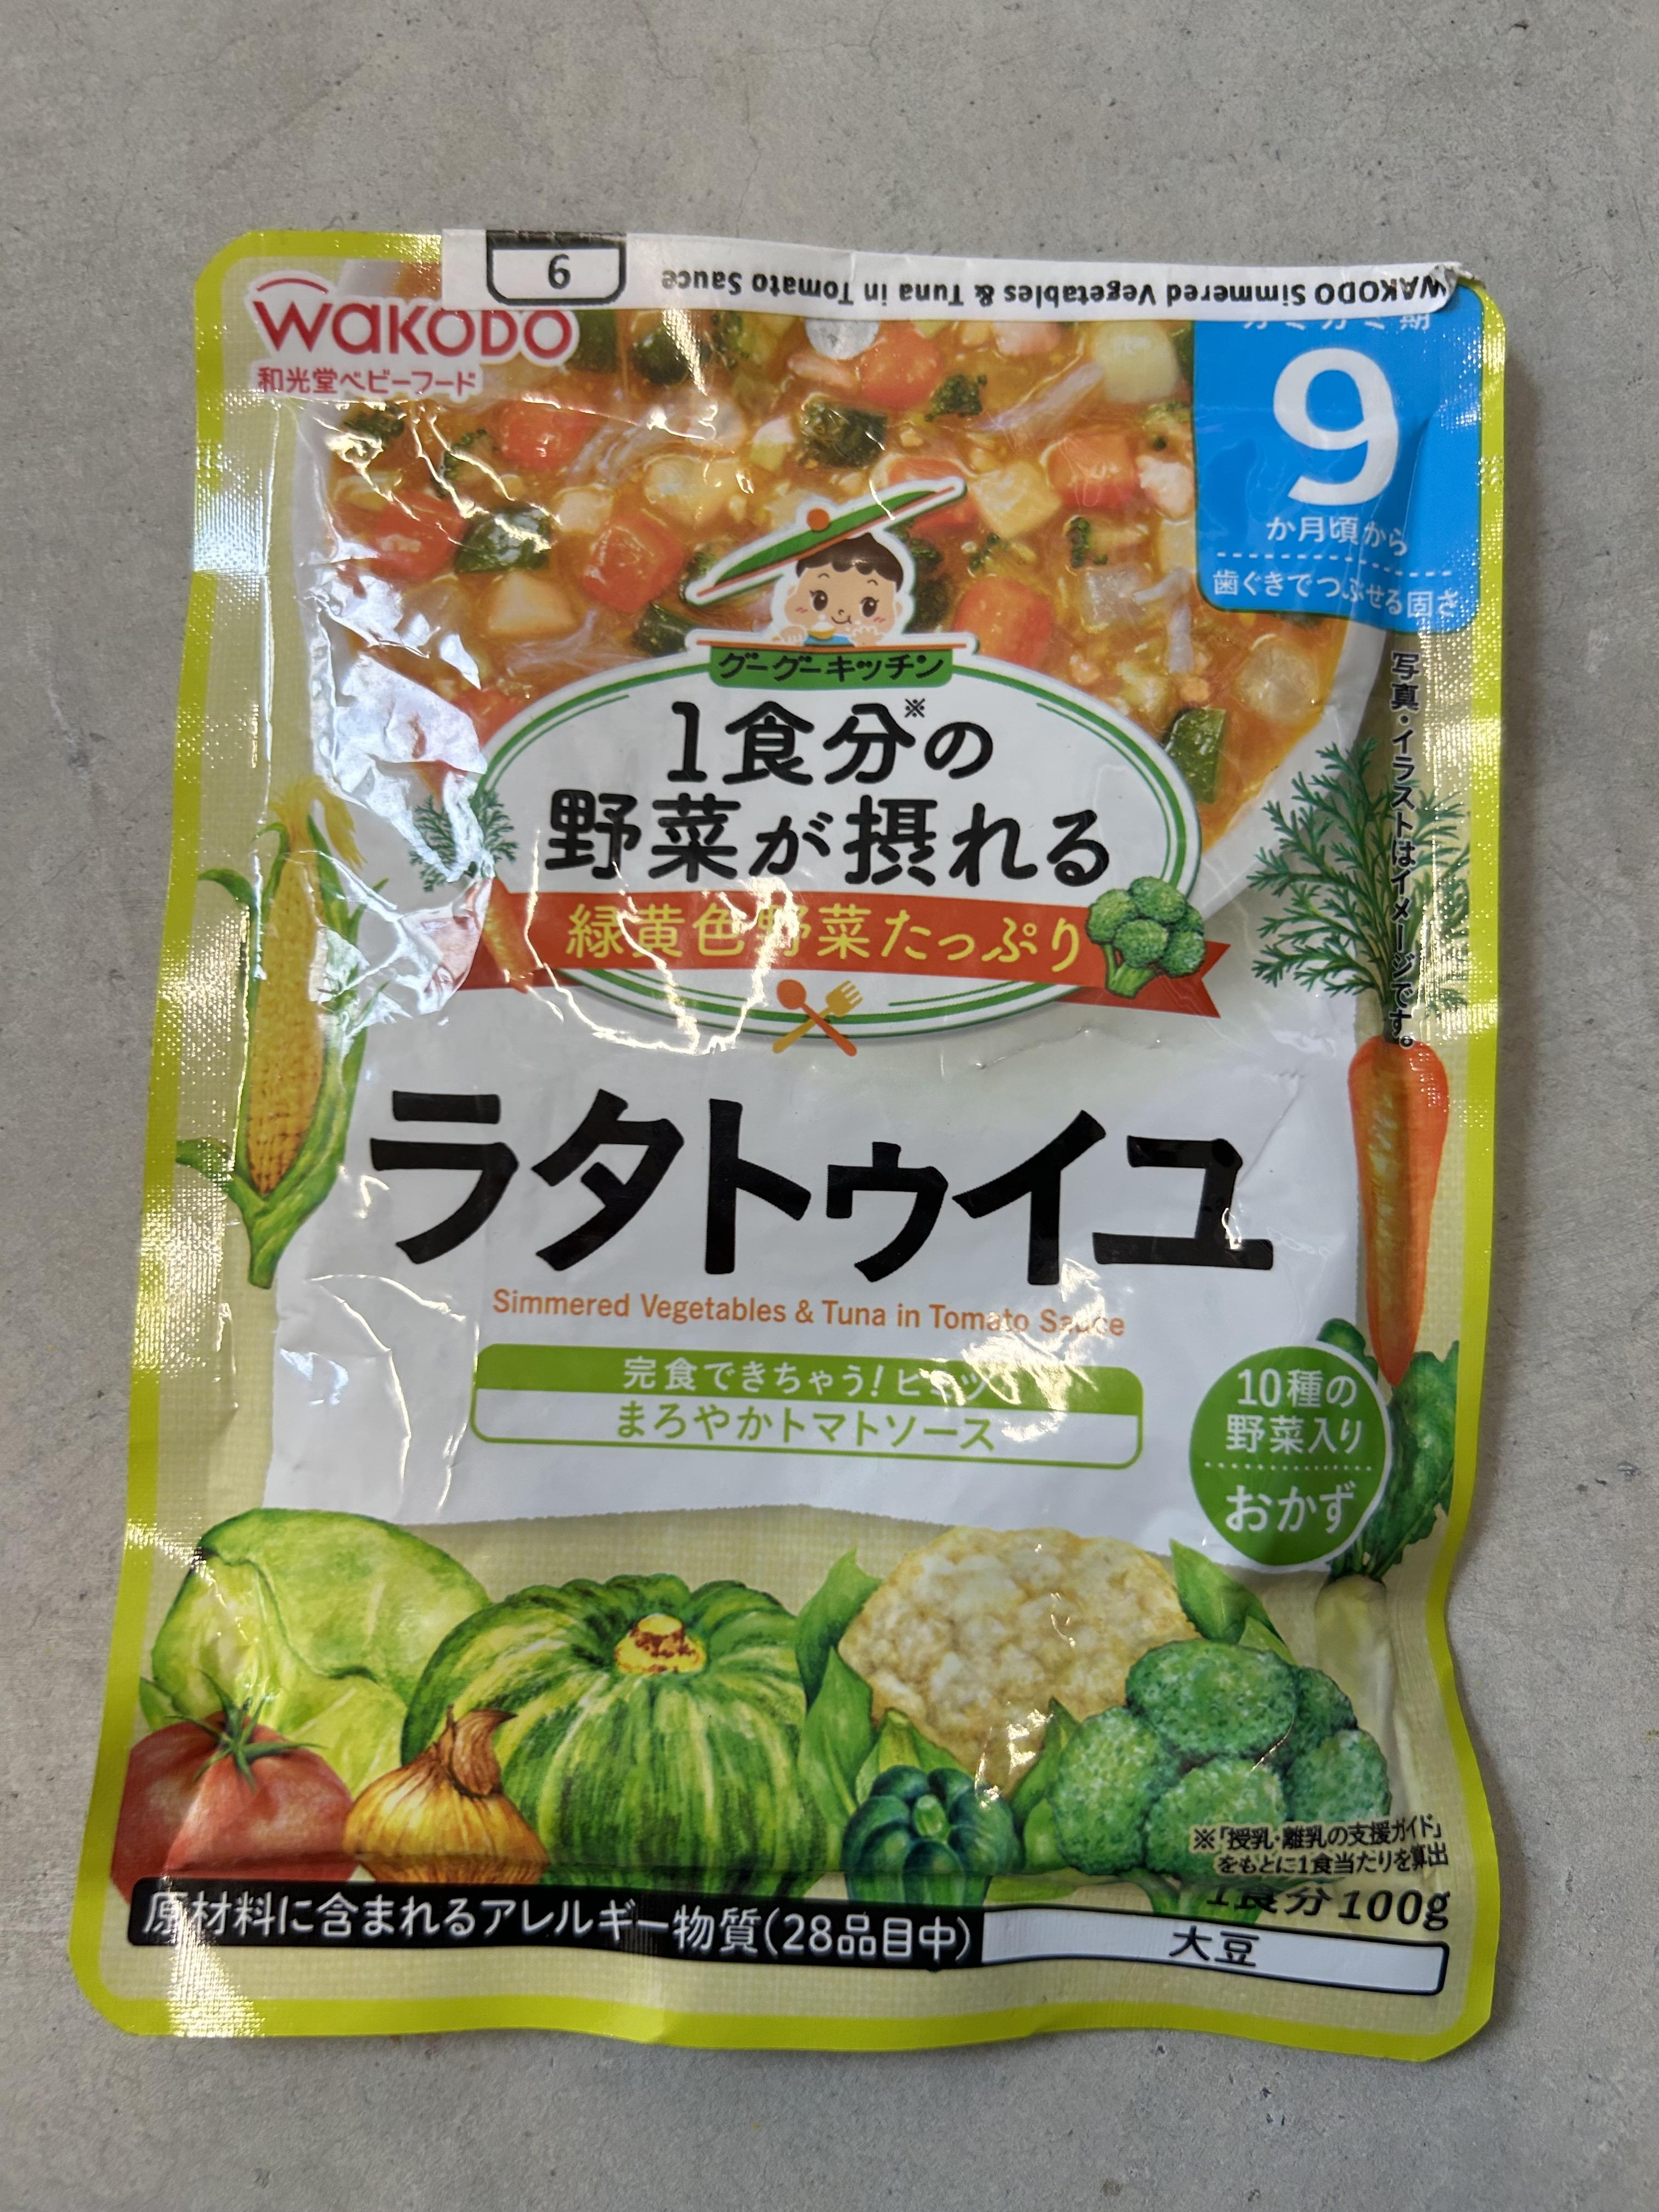object_name: (225, 249, 1473, 2026)
